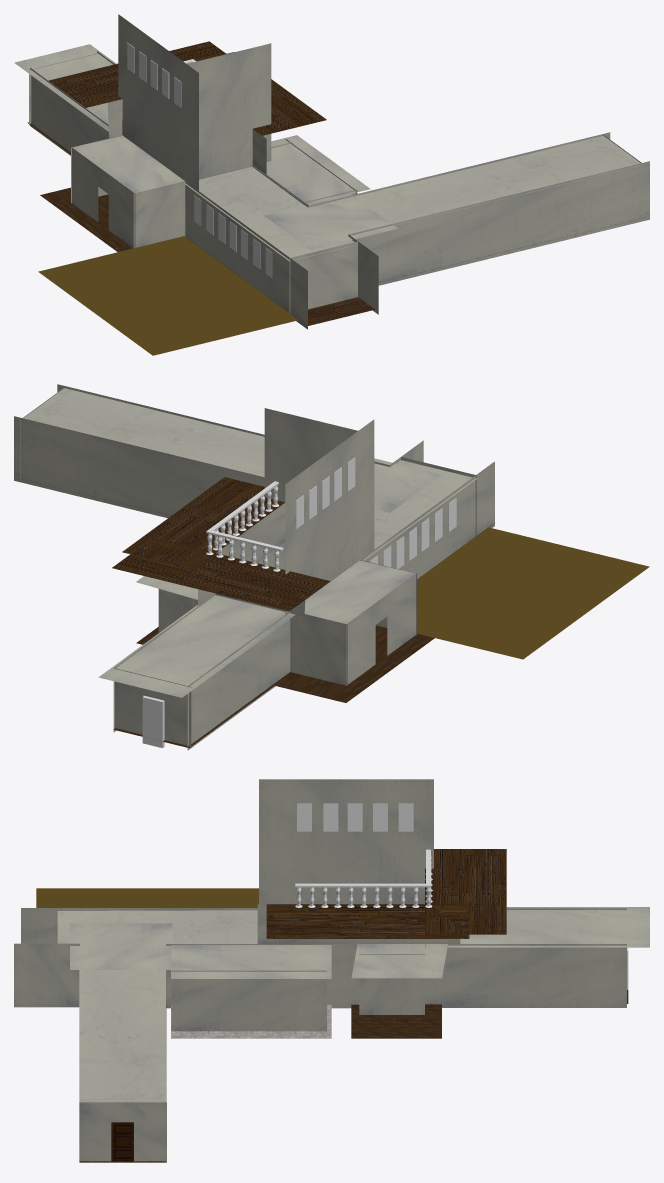
Rendered from PT Level 3.fbx.
3 renders of one model, top to bottom at view 1: azimuth 30°, elevation 25°; view 2: azimuth 150°, elevation 25°; view 3: azimuth 270°, elevation 25°, orthographic. The views are drawn at different scales.
Parts seen in each view (by area): view 1: Plane.030, Plane.002, Cube.012, Plane.037, Plane.029, Plane.036, Cube.013, Plane.034, Plane.018, Plane.019, Plane.003, Plane.031 (+13 smaller); view 2: Plane.030, Plane.001, Plane.037, Plane.032, Cube.012, Plane.025, Plane.003, Plane.024, Plane.036, Plane.029, Plane.019, Plane.031 (+15 smaller); view 3: Plane.028, Plane.005, Cube.012, Plane.022, Plane.024, Plane.032, Plane.025, Plane.018, Plane.034, Cube.013, Plane.030, Plane (+12 smaller).
Part boxes in pixels (x1,y1,x2,y2): Plane.030: [38, 236, 298, 355]; Plane.002: [348, 161, 649, 285]; Cube.012: [355, 136, 641, 225]; Plane.037: [118, 14, 198, 190]; Plane.029: [187, 43, 271, 179]; Plane.036: [185, 182, 307, 329]; Cube.013: [184, 167, 357, 261]; Plane.034: [263, 194, 397, 249]; Plane.018: [253, 135, 370, 204]; Plane.019: [72, 148, 135, 247]; Plane.003: [30, 67, 109, 155]; Plane.031: [72, 136, 184, 193]; Plane.030: [417, 527, 649, 659]; Plane.001: [14, 416, 264, 518]; Plane.037: [285, 420, 374, 614]; Plane.032: [98, 595, 295, 697]; Cube.012: [23, 388, 264, 476]; Plane.025: [112, 538, 330, 611]; Plane.003: [187, 612, 290, 750]; Plane.024: [122, 477, 284, 569]; Plane.036: [361, 462, 494, 579]; Plane.029: [264, 408, 357, 501]; Plane.019: [346, 573, 416, 685]; Plane.031: [304, 560, 415, 624]; Plane.028: [259, 779, 433, 904]; Plane.005: [425, 944, 626, 1007]; Cube.012: [79, 970, 165, 1102]; Plane.022: [171, 970, 326, 1031]; Plane.024: [266, 904, 469, 938]; Plane.032: [447, 907, 649, 947]; Plane.025: [425, 849, 506, 934]; Plane.018: [171, 945, 331, 978]; Plane.034: [70, 923, 172, 969]; Cube.013: [57, 910, 257, 943]; Plane.030: [36, 888, 258, 907]; Plane: [79, 1102, 166, 1162].
Size of the model in its own units: 31810 by 10542 by 31083.
10 materials, 7 textured.
